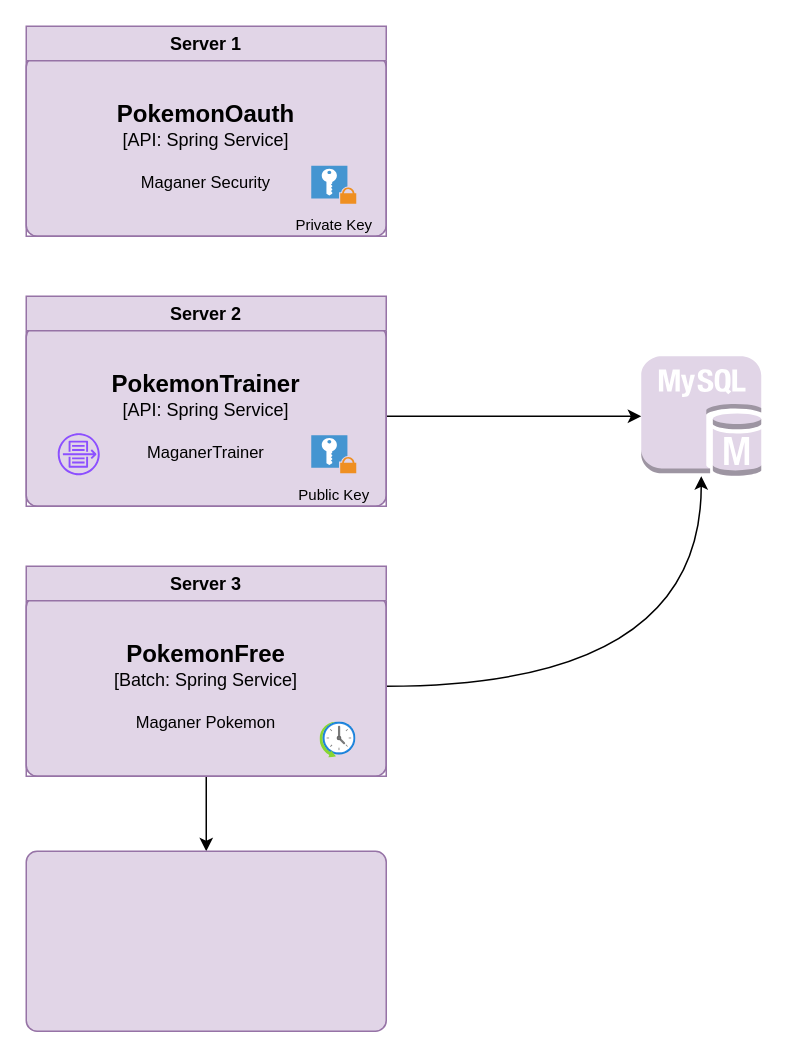
The diagram is 788 pixels wide and 1058 high, and some of its shapes have lost their labels. Each missing label, with the centre of its shape:
PokeAPI [API: External] Pokemon Provider: (205,940)
Request Log: (78,453)
